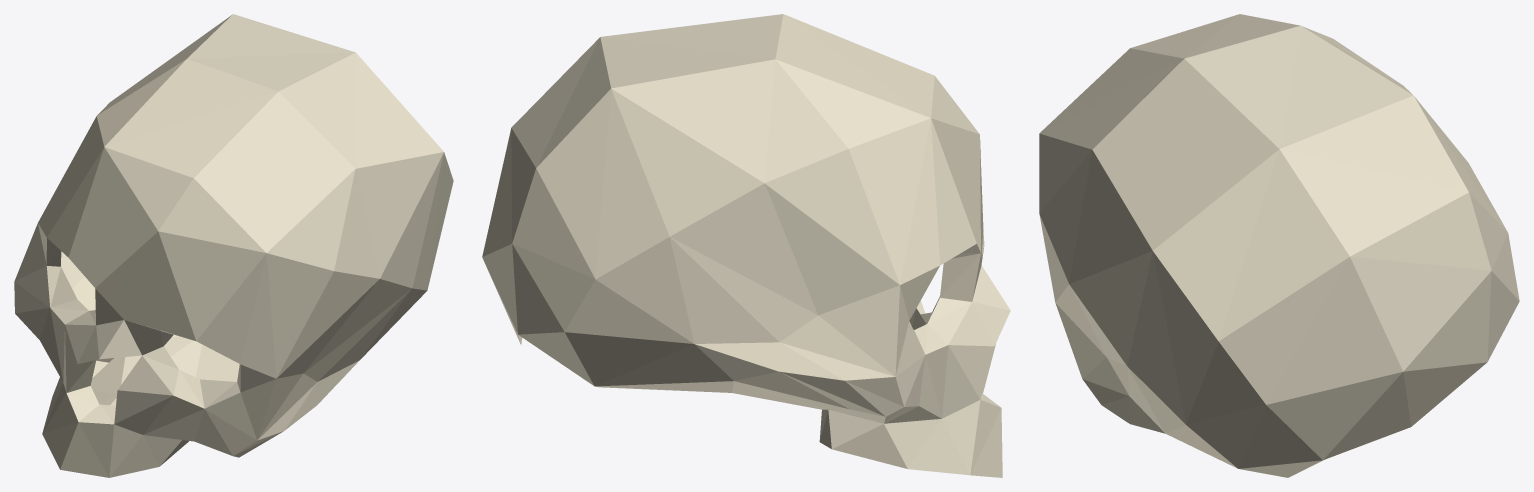
Rendered from Skull001.gltf.
The picture shows the model from 3 angles, left to right: view 1: azimuth 30°, elevation 25°; view 2: azimuth 150°, elevation 25°; view 3: azimuth 270°, elevation 25°; orthographic projection. The views are drawn at different scales.
Parts seen in each view (by area): view 1: Skull001; view 2: Skull001; view 3: Skull001.
Boxes of the visible parts, x1,y1,x2,y2 form: Skull001: (14,14,453,477); Skull001: (482,14,1010,477); Skull001: (1039,14,1519,477).
Size of the model in its own units: 0.2247 by 0.1941 by 0.1999.
